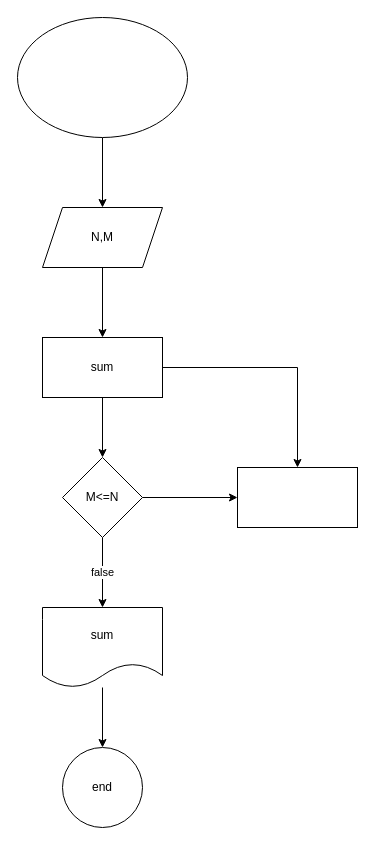
The diagram is 375 pixels wide and 845 high, and some of its shapes have lost their labels. Here are the shapes that lost their labels. From the top down, the centre of each, then its label:
point (102, 77): start
point (297, 497): sum+=M M++
